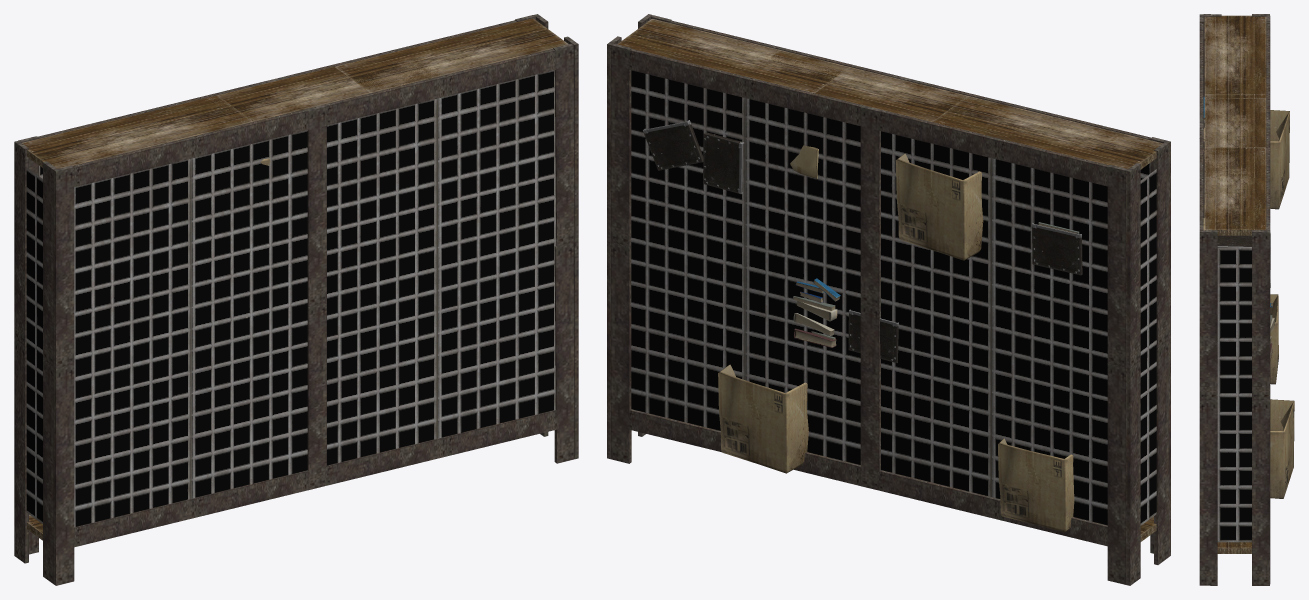
Rendered from sm39_153_netshelfset01a.fbx.
3 renders of one model, left to right at view 1: azimuth 30°, elevation 25°; view 2: azimuth 150°, elevation 25°; view 3: azimuth 270°, elevation 25°, orthographic. The views are drawn at different scales.
Parts seen in each view (by area): view 1: LOD_1_Group_0_Sub_6__sm30_052_Steelrack01A_A_Mat__Env_AlphaT, LOD_1_Group_1_Sub_3__sm26_002_WoodBox01A_D_Mat, LOD_1_Group_1_Sub_4__sm30_108_FarmTable01A_A_Mat; view 2: LOD_1_Group_0_Sub_6__sm30_052_Steelrack01A_A_Mat__Env_AlphaT, LOD_1_Group_1_Sub_3__sm26_002_WoodBox01A_D_Mat, LOD_1_Group_0_Sub_3__sm36_002_Cardboard01A_A_Mat, LOD_1_Group_1_Sub_4__sm30_108_FarmTable01A_A_Mat, LOD_1_Group_1_Sub_1__sm36_022_Cardboard01A_B_Mat, LOD_1_Group_0_Sub_1__sm36_022_Cardboard01A_B_Mat; view 3: LOD_1_Group_1_Sub_3__sm26_002_WoodBox01A_D_Mat, LOD_1_Group_1_Sub_4__sm30_108_FarmTable01A_A_Mat, LOD_1_Group_0_Sub_6__sm30_052_Steelrack01A_A_Mat__Env_AlphaT, LOD_1_Group_0_Sub_3__sm36_002_Cardboard01A_A_Mat, LOD_1_Group_1_Sub_1__sm36_022_Cardboard01A_B_Mat.
Part boxes in pixels (x1,y1,x2,y2): LOD_1_Group_0_Sub_6__sm30_052_Steelrack01A_A_Mat__Env_AlphaT: (26, 70, 556, 527); LOD_1_Group_1_Sub_3__sm26_002_WoodBox01A_D_Mat: (14, 14, 578, 585); LOD_1_Group_1_Sub_4__sm30_108_FarmTable01A_A_Mat: (22, 18, 568, 540); LOD_1_Group_0_Sub_6__sm30_052_Steelrack01A_A_Mat__Env_AlphaT: (631, 70, 1156, 525); LOD_1_Group_1_Sub_3__sm26_002_WoodBox01A_D_Mat: (607, 14, 1170, 585); LOD_1_Group_0_Sub_3__sm36_002_Cardboard01A_A_Mat: (718, 153, 1074, 532); LOD_1_Group_1_Sub_4__sm30_108_FarmTable01A_A_Mat: (617, 19, 1162, 541); LOD_1_Group_1_Sub_1__sm36_022_Cardboard01A_B_Mat: (643, 120, 898, 362); LOD_1_Group_0_Sub_1__sm36_022_Cardboard01A_B_Mat: (1032, 223, 1082, 275); LOD_1_Group_1_Sub_3__sm26_002_WoodBox01A_D_Mat: (1199, 14, 1270, 585); LOD_1_Group_1_Sub_4__sm30_108_FarmTable01A_A_Mat: (1204, 15, 1266, 553); LOD_1_Group_0_Sub_6__sm30_052_Steelrack01A_A_Mat__Env_AlphaT: (1217, 247, 1251, 542); LOD_1_Group_0_Sub_3__sm36_002_Cardboard01A_A_Mat: (1203, 110, 1294, 498); LOD_1_Group_1_Sub_1__sm36_022_Cardboard01A_B_Mat: (1217, 233, 1270, 287).
Bounding box in the file's own units: 3.09 × 2.34 × 0.5697.
